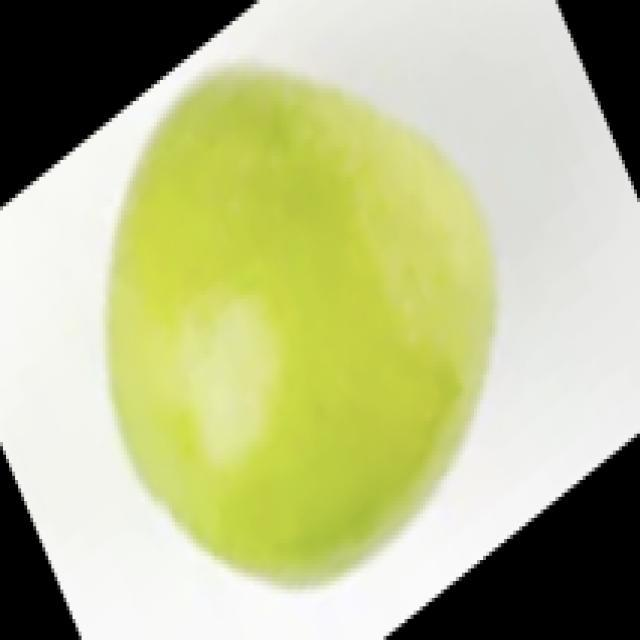Fresh Apple: (128, 83, 488, 577)
